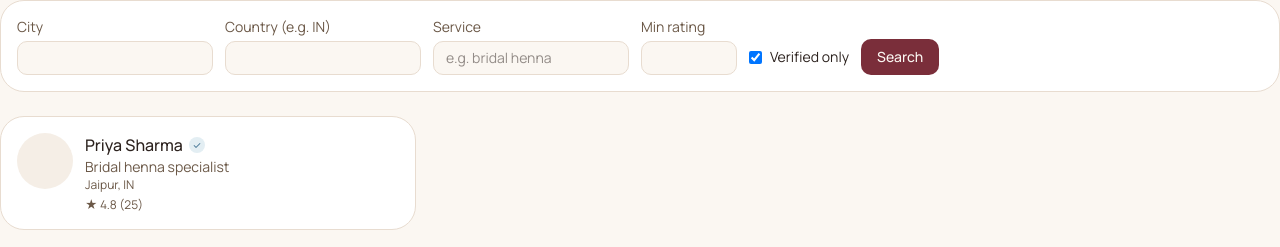
ArtistDirectoryView › re-searches with the submitted filters
Check: the text "Priya Sharma" is shown, box [85, 133, 183, 157]
Type "Mumbai" into the field labelled "City" at {"x": 115, "y": 58}, box [17, 41, 213, 75]
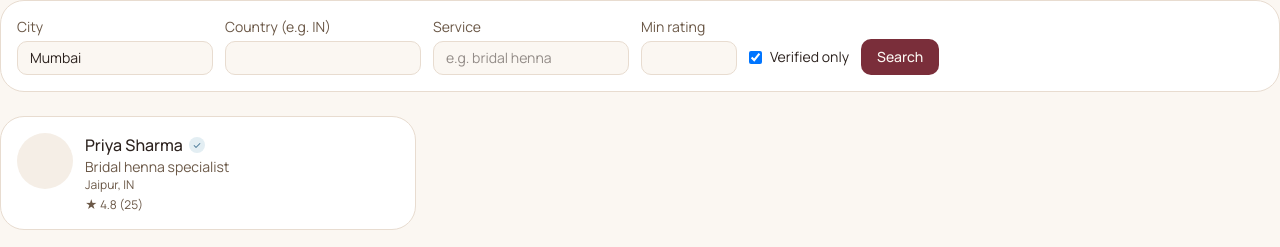
Click the button "Search" at {"x": 900, "y": 57}, box [861, 39, 939, 75]
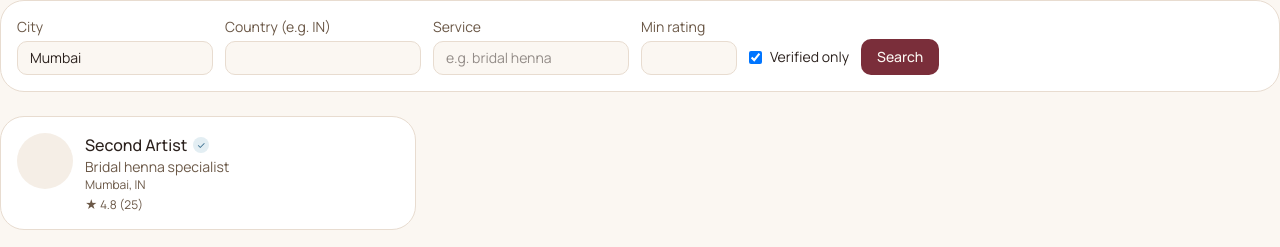
Check: the text "Second Artist" is shown, box [85, 133, 187, 157]
